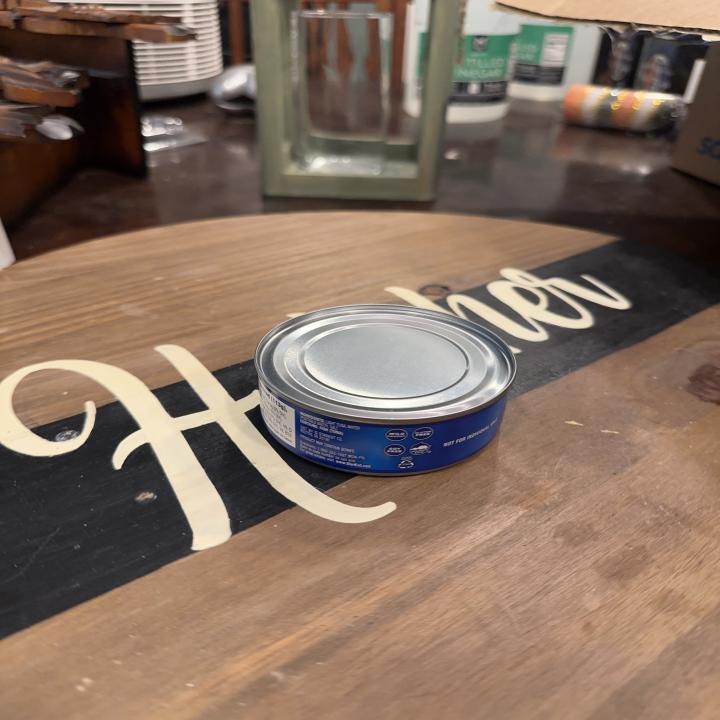Canned-Tuna: (252, 302, 522, 479)
